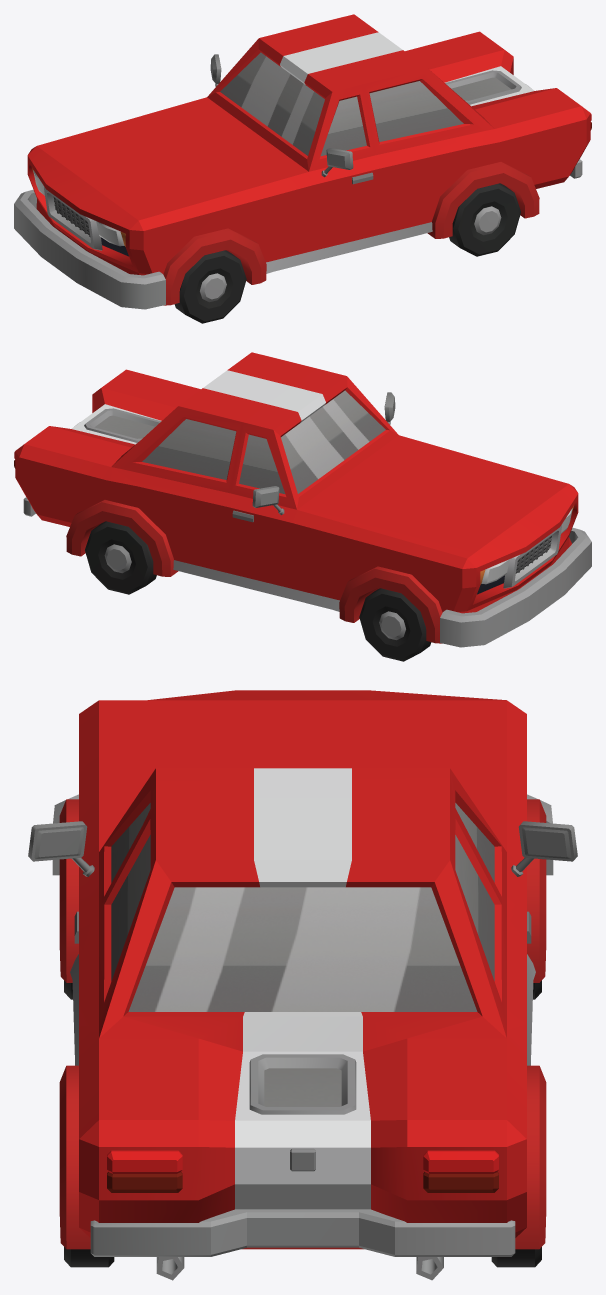
Rendered from Car_18_V.gltf.
3 renders of one model, top to bottom at view 1: azimuth 30°, elevation 25°; view 2: azimuth 150°, elevation 25°; view 3: azimuth 270°, elevation 25°, orthographic. The views are drawn at different scales.
Visible parts, largest first — view 1: Car_18_V, RL, FL; view 2: Car_18_V, RR, FR; view 3: Car_18_V.
Part boxes in pixels (<box>): Car_18_V: <box>14,14,591,309</box>; RL: <box>449,183,520,256</box>; FL: <box>174,250,246,323</box>; Car_18_V: <box>14,352,591,647</box>; RR: <box>85,521,156,594</box>; FR: <box>359,588,431,661</box>; Car_18_V: <box>28,690,577,1280</box>.
Bounding box in the file's own units: 3.78 × 1.34 × 1.85.
3 materials, 3 textured.
